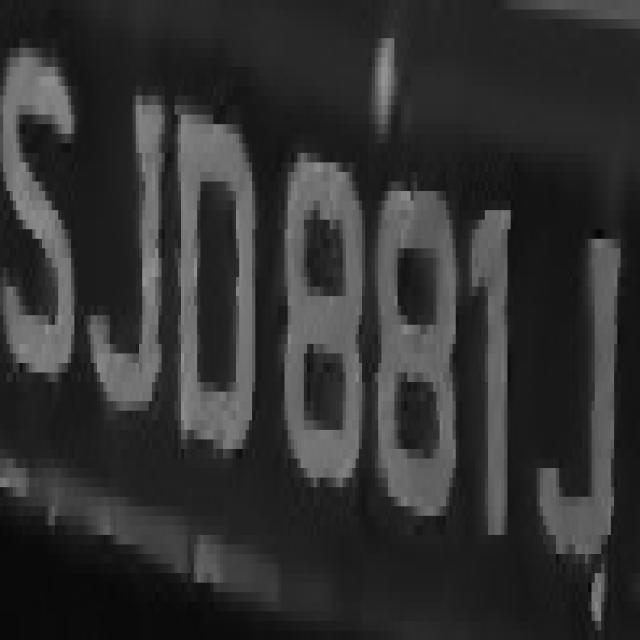1: (469, 153, 517, 563)
8: (278, 86, 365, 525), (372, 162, 462, 544)
D: (162, 96, 262, 487)
J: (540, 201, 630, 554), (84, 48, 168, 420)
S: (3, 9, 84, 430)
